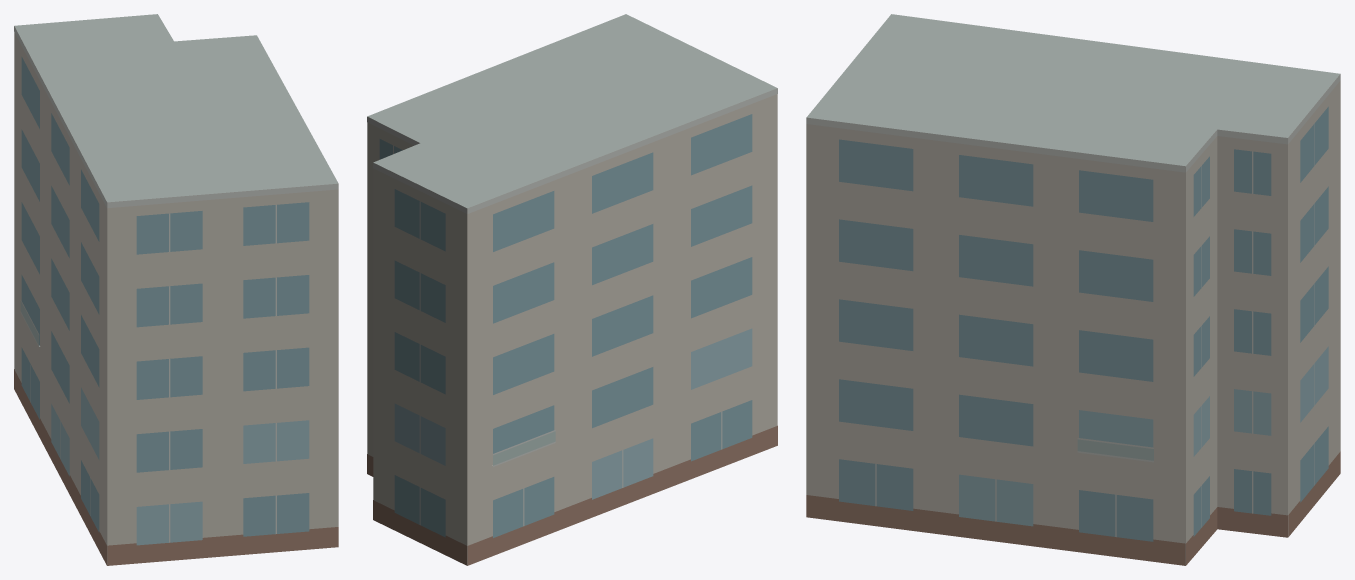
The model's file is survey-upis-32874746.glb.
3 renders of one model, left to right at view 1: azimuth 30°, elevation 25°; view 2: azimuth 150°, elevation 25°; view 3: azimuth 270°, elevation 25°, orthographic. The views are drawn at different scales.
Parts seen in each view (by area): view 1: survey-upis-32874746.tmp; view 2: survey-upis-32874746.tmp; view 3: survey-upis-32874746.tmp.
Part boxes in pixels (<box>): survey-upis-32874746.tmp: <box>14,14,338,565</box>; survey-upis-32874746.tmp: <box>367,14,777,565</box>; survey-upis-32874746.tmp: <box>806,14,1340,565</box>.
Bounding box in the file's own units: 12.47 × 15.25 × 18.48.
